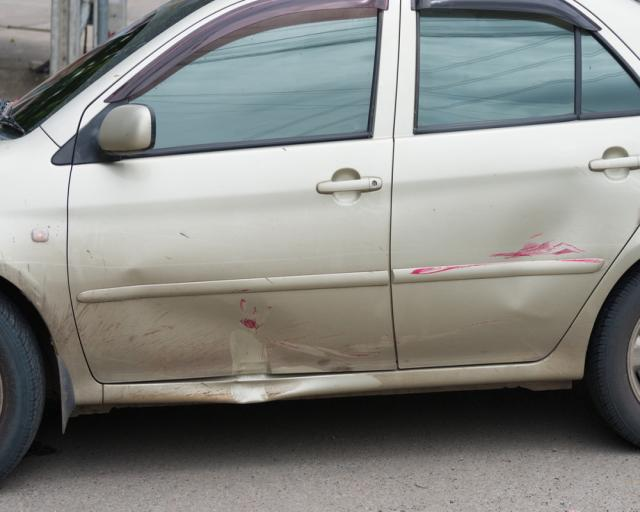dent: (109, 268, 298, 361), (493, 196, 580, 303), (226, 377, 298, 404)
scratch: (296, 332, 393, 374), (410, 262, 489, 277)
